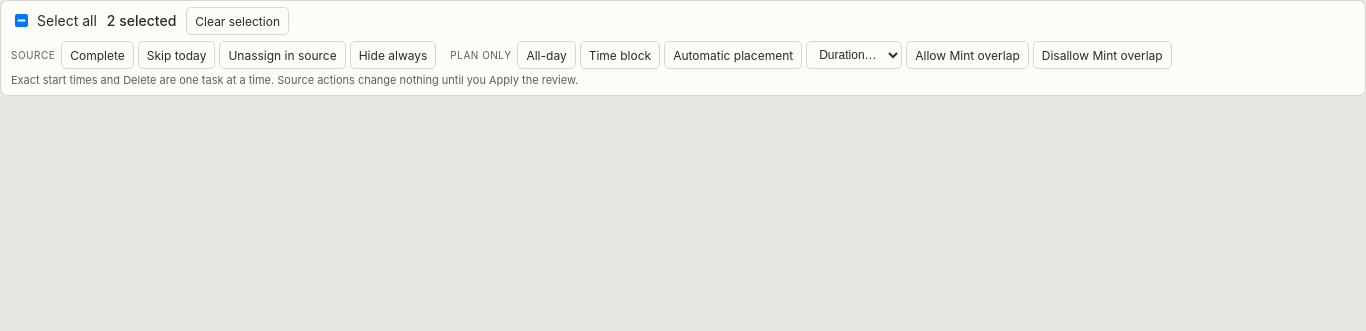
Test: results, retry, and undo › reports an undo conflict by name and does not claim a clean reversal
This screenshot has width=1366, height=331.
Click the button "Complete" at (98, 55), box x1=61 y1=41 x2=134 y2=69
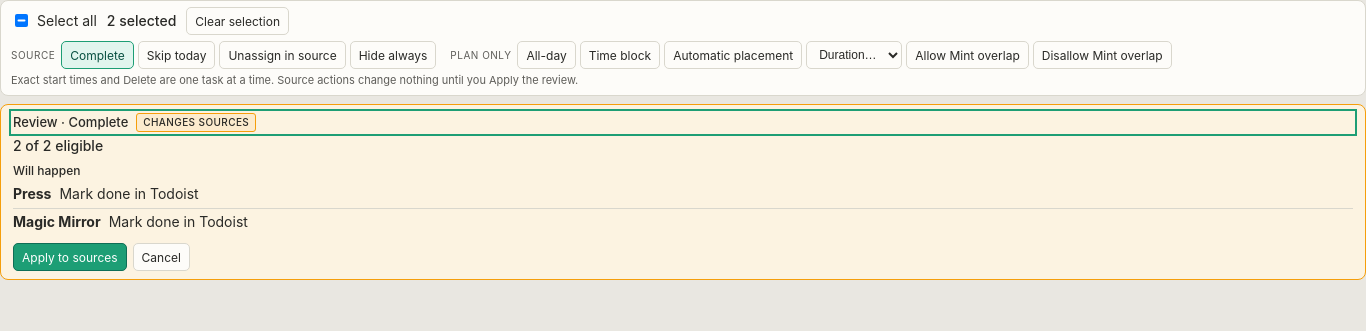
Click the button "Apply to sources" at (70, 257), box x1=13 y1=243 x2=127 y2=271
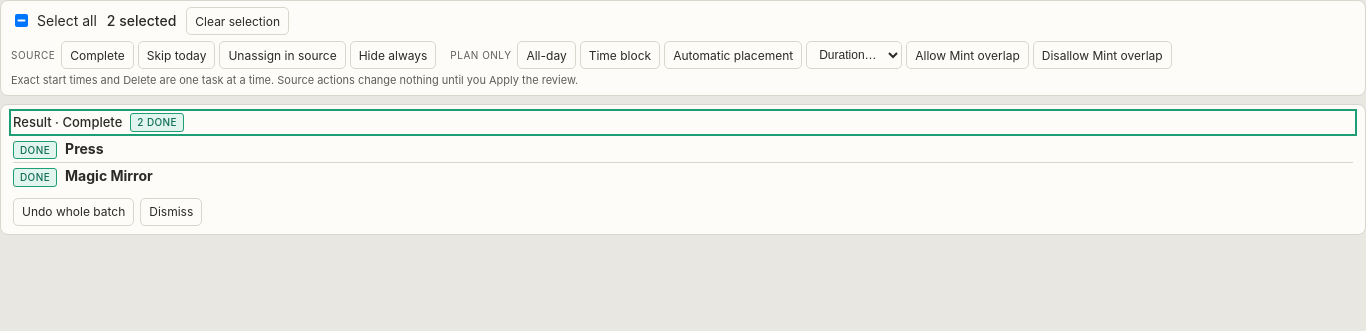
Click the button "Undo whole batch" at (74, 212), box x1=13 y1=198 x2=134 y2=226
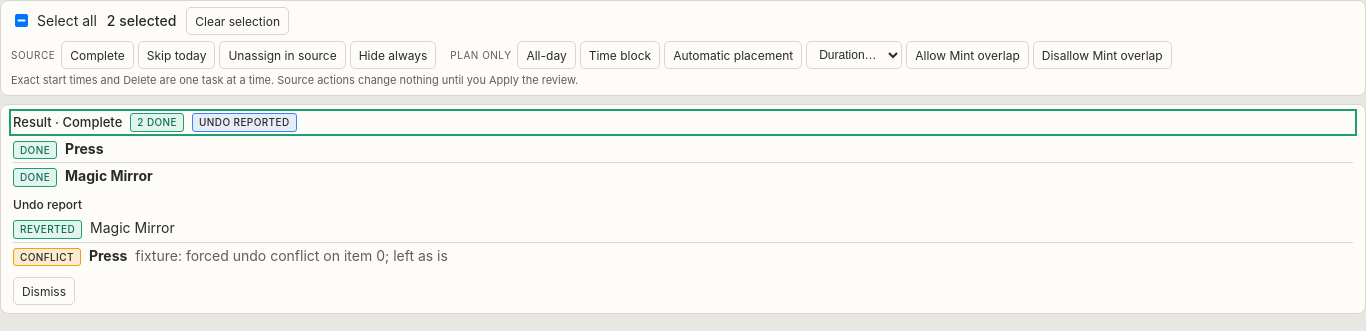
Check: the element with test id "batch-undo-report" shows "Reverted", box x1=20 y1=223 x2=75 y2=235
Check: the element with test id "batch-undo-report" shows "Magic Mirror", box x1=90 y1=219 x2=175 y2=236
Check: the element with test id "batch-undo-report" shows "Conflict", box x1=20 y1=251 x2=74 y2=263
